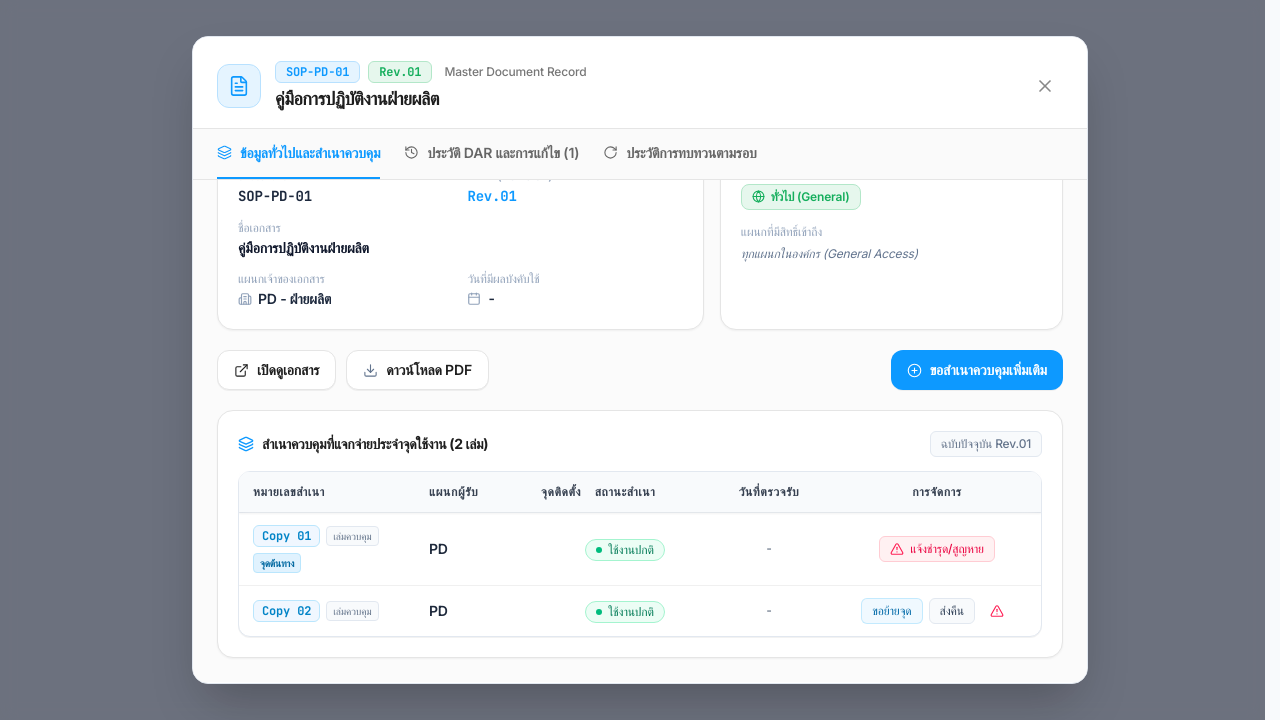
Test: Controlled Copy Modern Contextual Action Suite (Direct Action Layout) › 3. Clicking 'ส่งคืน' on Copy 02 directly opens return modal
(page scrolled)
Click the button "ส่งคืน" at x=952, y=611, box [928, 598, 975, 624]
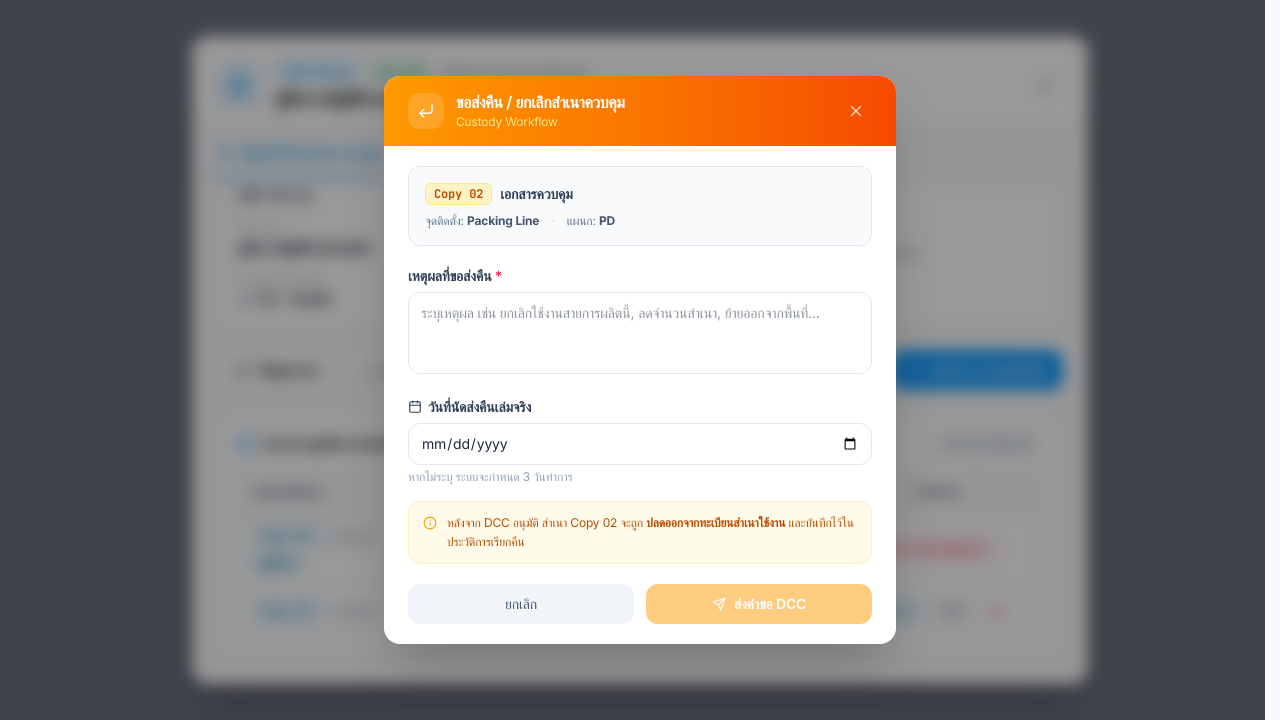
Now the heading "ขอส่งคืน / ยกเลิกสำเนาควบคุม" is shown, box [456, 92, 625, 112]
